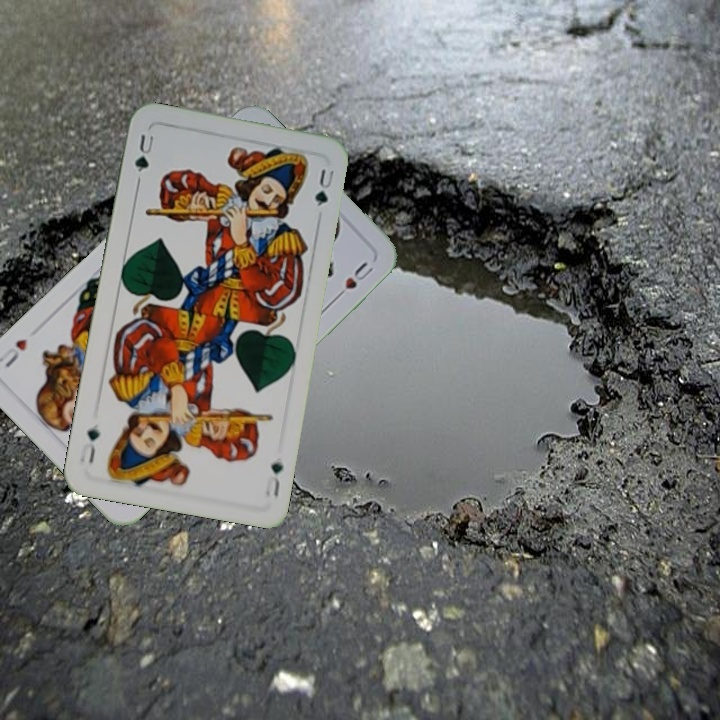GU: (130, 130, 157, 175), (261, 457, 286, 500)
